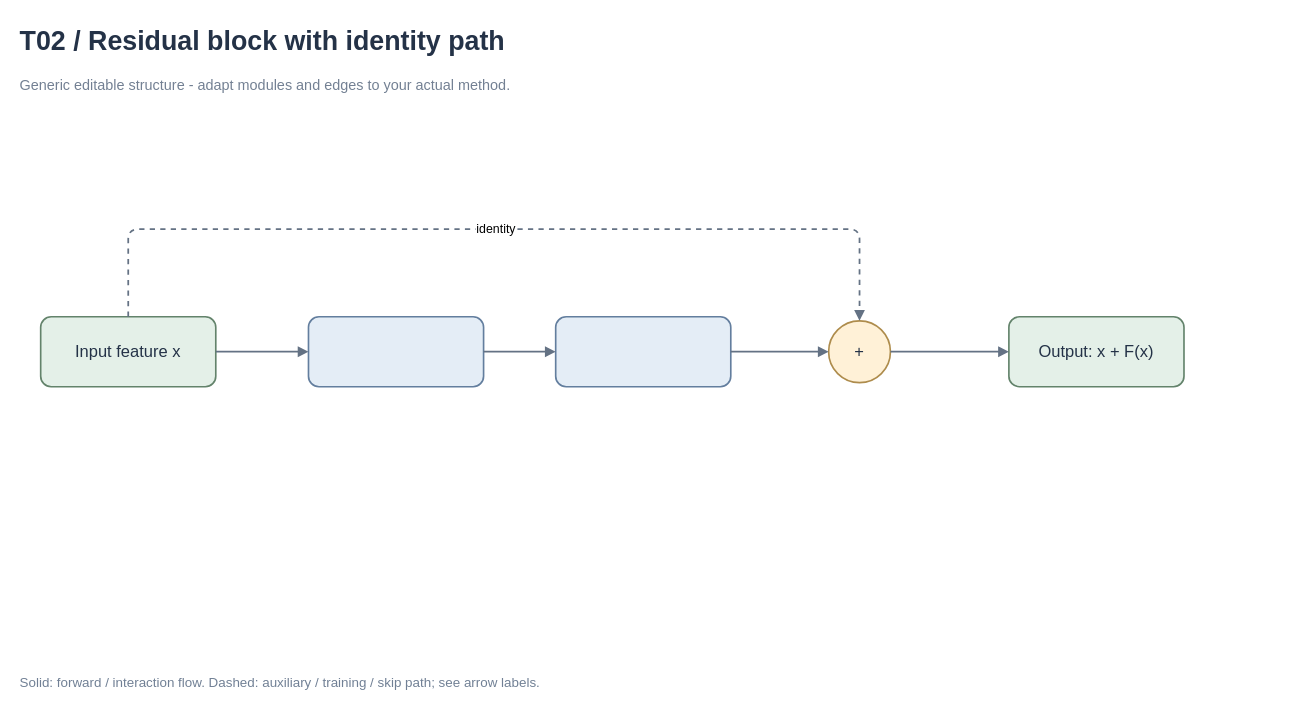
Some shapes in this 1302 by 716 pixel diagram are drawn without their labels. Each missing label, with the box of its shape:
Activation + Conv: (554, 315, 731, 387)
Conv + Norm: (307, 315, 484, 387)
